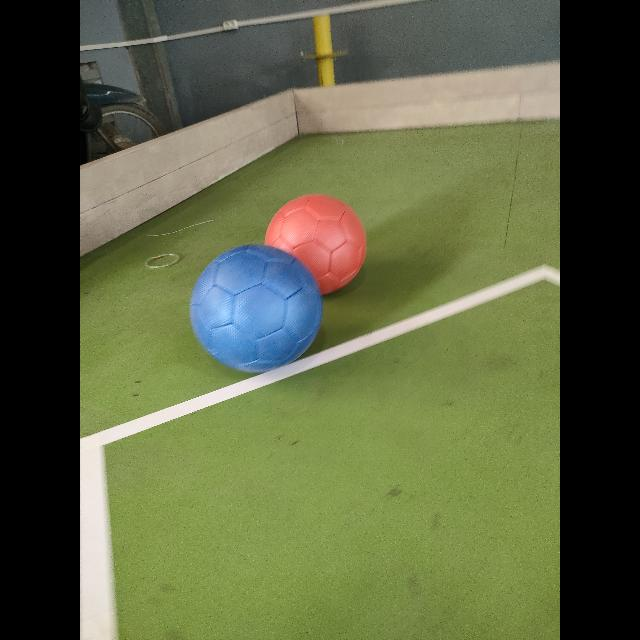B: (190, 245, 322, 371)
R: (266, 194, 366, 294)
